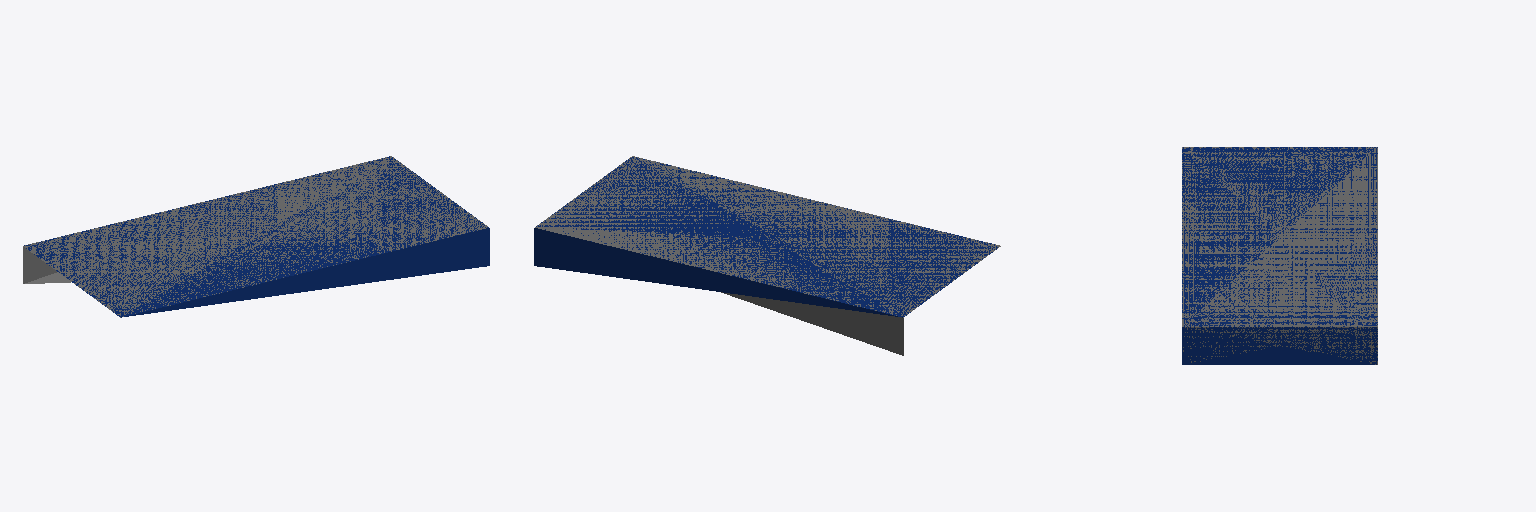
The model's file is minimart.obj.
The picture shows the model from 3 angles: view 1: azimuth 30°, elevation 25°; view 2: azimuth 150°, elevation 25°; view 3: azimuth 270°, elevation 25°; orthographic projection.
Parts seen in each view (by area): view 1: island, numbers, nozzles, fsign1_1; view 2: island, fsign1_1, numbers, lilpole, nozzles; view 3: island, fsign1_1, numbers, nozzles.
Part boxes in pixels (x1,y1,x2,y2): island: (24, 156, 489, 317); numbers: (23, 156, 485, 316); nozzles: (23, 158, 383, 317); fsign1_1: (30, 156, 487, 314); island: (536, 157, 997, 316); fsign1_1: (535, 157, 999, 314); numbers: (536, 156, 1000, 355); lilpole: (534, 228, 902, 317); nozzles: (539, 228, 998, 317); island: (1182, 147, 1377, 364); fsign1_1: (1182, 147, 1377, 363); numbers: (1182, 147, 1377, 364); nozzles: (1185, 147, 1377, 324).
Bounding box in the file's own units: 9.97 × 0.9908 × 4.59.